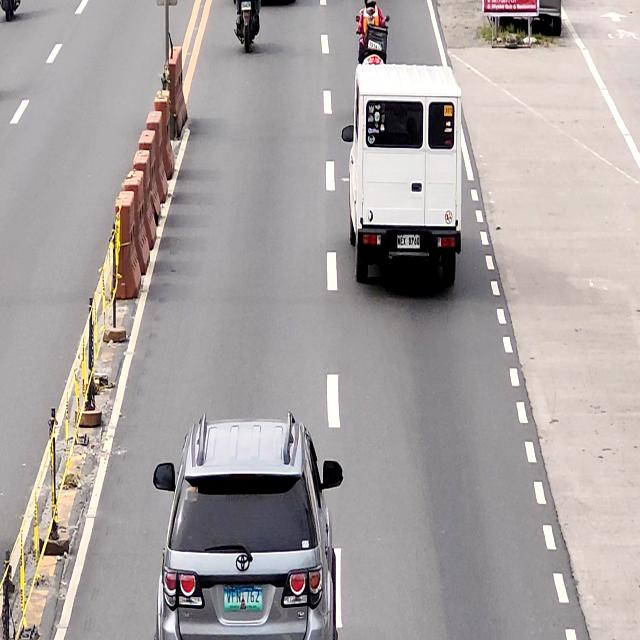Car: (151, 410, 344, 640), (343, 62, 464, 296)
License-Plate: (223, 587, 263, 613), (396, 234, 421, 248)
